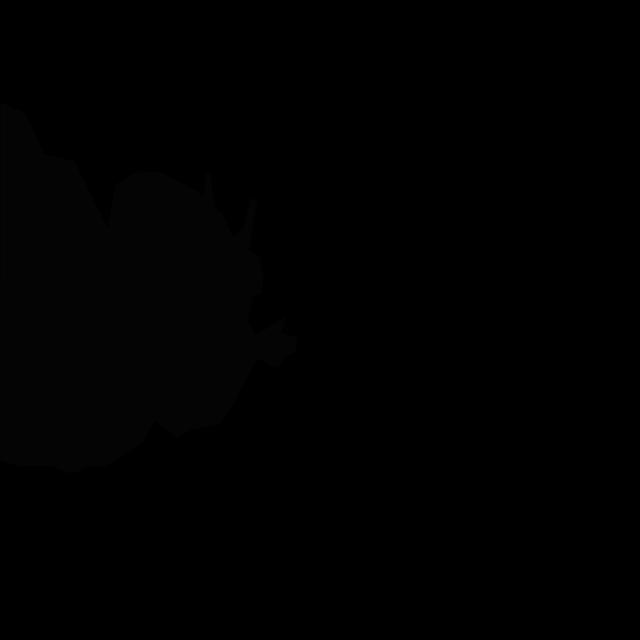soft_plastic: (0, 102, 297, 474)
